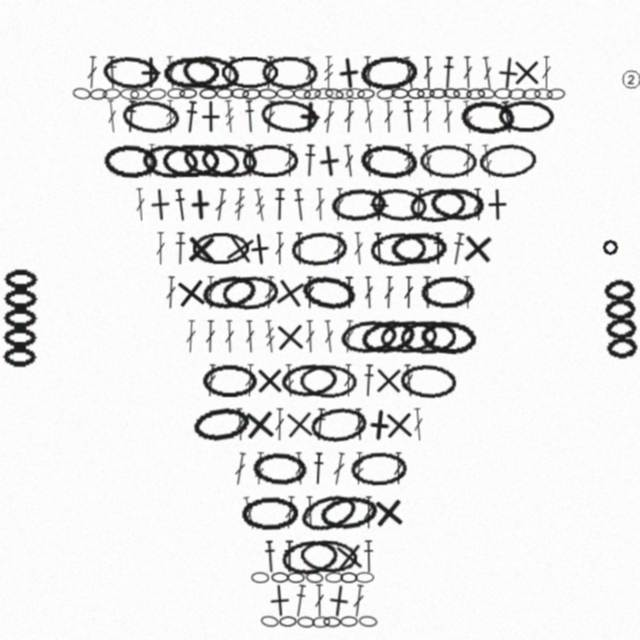chain: (297, 489, 361, 537), (299, 272, 359, 314), (180, 52, 241, 93), (359, 316, 418, 358), (191, 404, 251, 445), (318, 493, 379, 533), (200, 272, 259, 313), (280, 537, 340, 577), (181, 141, 241, 181), (259, 97, 320, 136), (309, 405, 369, 444), (408, 186, 468, 224), (121, 98, 181, 136), (339, 318, 398, 356), (369, 186, 428, 224), (359, 142, 418, 180), (101, 54, 160, 92), (478, 142, 538, 179), (419, 318, 477, 356), (299, 538, 358, 575), (280, 362, 339, 399), (290, 230, 349, 267), (200, 142, 259, 179), (359, 54, 418, 91), (379, 319, 439, 355), (221, 274, 279, 311), (369, 231, 428, 267), (141, 143, 200, 179), (429, 186, 486, 223), (399, 363, 457, 399), (330, 187, 388, 223), (261, 55, 319, 90), (252, 451, 308, 487), (103, 143, 159, 179), (460, 99, 516, 135), (299, 364, 358, 398), (350, 451, 407, 486), (390, 231, 447, 266), (419, 144, 477, 178), (420, 275, 476, 310), (241, 496, 298, 530), (400, 320, 456, 354), (163, 56, 219, 90), (192, 232, 249, 265), (162, 144, 219, 177), (498, 100, 555, 133), (221, 56, 278, 89), (202, 364, 258, 397), (242, 144, 298, 177), (324, 87, 344, 101), (303, 87, 322, 101), (358, 615, 378, 628), (314, 87, 334, 100), (376, 87, 396, 100), (260, 615, 279, 628), (305, 571, 324, 584), (72, 87, 91, 100), (442, 87, 461, 100), (477, 87, 496, 100), (147, 88, 167, 100), (546, 88, 566, 100), (89, 88, 108, 100), (102, 88, 121, 100), (120, 88, 139, 100), (130, 88, 149, 100), (242, 88, 261, 100), (258, 88, 277, 100), (335, 88, 354, 100), (466, 88, 485, 100), (522, 88, 541, 100), (534, 88, 553, 100), (297, 616, 315, 628), (312, 616, 330, 628), (323, 616, 341, 628), (293, 88, 311, 100), (357, 88, 375, 100), (508, 88, 526, 100), (355, 572, 374, 583), (230, 88, 249, 99), (276, 88, 295, 99), (346, 88, 365, 99), (453, 88, 472, 99), (279, 616, 297, 627), (340, 616, 358, 627), (251, 572, 269, 583), (271, 572, 289, 583), (287, 572, 305, 583), (325, 572, 343, 583), (340, 572, 358, 583), (167, 88, 185, 99), (179, 88, 197, 99), (199, 88, 217, 99), (216, 88, 234, 99), (391, 88, 409, 99), (407, 88, 425, 99), (417, 88, 435, 99), (429, 88, 447, 99), (494, 88, 512, 99)
double: (241, 496, 258, 530), (232, 452, 248, 486), (331, 452, 347, 486), (420, 144, 436, 178), (401, 56, 417, 90), (351, 584, 366, 618), (213, 188, 228, 222), (302, 56, 317, 90), (480, 56, 495, 90), (342, 144, 356, 178), (263, 100, 277, 134), (322, 100, 336, 134), (283, 496, 297, 529), (204, 364, 218, 397), (402, 364, 416, 397), (322, 320, 336, 353), (105, 100, 119, 133), (362, 100, 376, 133), (164, 56, 178, 89), (293, 452, 306, 485), (412, 408, 425, 441), (342, 320, 355, 353), (263, 276, 276, 309), (332, 232, 345, 265), (352, 232, 365, 265), (134, 188, 147, 221), (263, 56, 276, 89), (362, 56, 375, 89), (304, 496, 316, 529), (234, 408, 246, 441), (353, 408, 365, 441), (244, 364, 256, 397), (185, 320, 197, 353), (244, 320, 256, 353), (304, 320, 316, 353), (165, 276, 177, 309), (363, 276, 375, 309), (383, 276, 395, 309), (314, 188, 326, 221), (333, 188, 345, 221), (472, 188, 484, 221), (363, 144, 375, 177), (462, 144, 474, 177), (343, 100, 355, 133), (442, 100, 454, 133), (86, 56, 98, 89), (422, 56, 434, 89), (462, 56, 474, 89), (314, 584, 325, 617), (363, 496, 374, 529), (393, 452, 404, 485), (274, 408, 285, 441), (343, 364, 354, 397), (205, 320, 216, 353), (224, 320, 235, 353), (205, 276, 216, 309), (304, 276, 315, 309), (403, 276, 414, 309), (462, 276, 473, 309), (155, 232, 166, 265), (274, 232, 285, 265), (284, 144, 295, 177), (383, 100, 394, 133), (422, 100, 433, 133), (541, 56, 552, 89)
enseble_chain: (0, 268, 41, 372), (600, 278, 640, 362)
half_double: (449, 232, 467, 266), (499, 100, 516, 134), (292, 584, 308, 618), (173, 188, 189, 222), (183, 100, 199, 134), (222, 56, 238, 90), (292, 188, 307, 222), (411, 188, 426, 221), (401, 100, 416, 133), (263, 540, 277, 573), (313, 408, 327, 441), (372, 232, 386, 265), (303, 144, 317, 177), (124, 100, 138, 133), (243, 100, 257, 133), (105, 56, 119, 89), (441, 56, 455, 89), (283, 540, 296, 573), (362, 540, 375, 573), (312, 452, 325, 485), (362, 364, 375, 397), (421, 276, 434, 309), (174, 232, 187, 265), (293, 232, 306, 265), (273, 188, 286, 221), (243, 144, 256, 177), (343, 276, 355, 309), (432, 232, 444, 265)
noise: (620, 68, 640, 90), (601, 238, 619, 256)
single: (271, 274, 309, 312), (221, 230, 259, 268), (321, 583, 357, 619), (331, 539, 367, 575), (361, 407, 397, 443), (173, 275, 209, 311), (242, 231, 278, 267), (311, 143, 347, 179), (331, 55, 367, 91), (490, 55, 526, 91), (262, 583, 297, 618), (371, 495, 406, 530), (242, 407, 277, 442), (282, 407, 317, 442), (460, 231, 495, 266), (143, 187, 178, 222), (183, 187, 218, 222), (382, 408, 416, 442), (273, 320, 307, 354), (184, 232, 218, 266), (362, 188, 396, 222), (293, 100, 327, 134), (253, 364, 286, 397), (372, 364, 405, 397), (481, 188, 514, 221), (194, 100, 227, 133), (134, 56, 167, 89), (510, 56, 543, 89)
treble: (252, 188, 268, 222), (480, 144, 495, 178), (461, 100, 475, 134), (263, 320, 277, 353), (253, 452, 266, 485), (283, 364, 296, 397), (233, 188, 246, 221), (223, 100, 236, 133), (353, 452, 365, 485), (145, 144, 157, 177), (403, 144, 415, 177), (165, 100, 176, 133), (323, 56, 334, 89)
